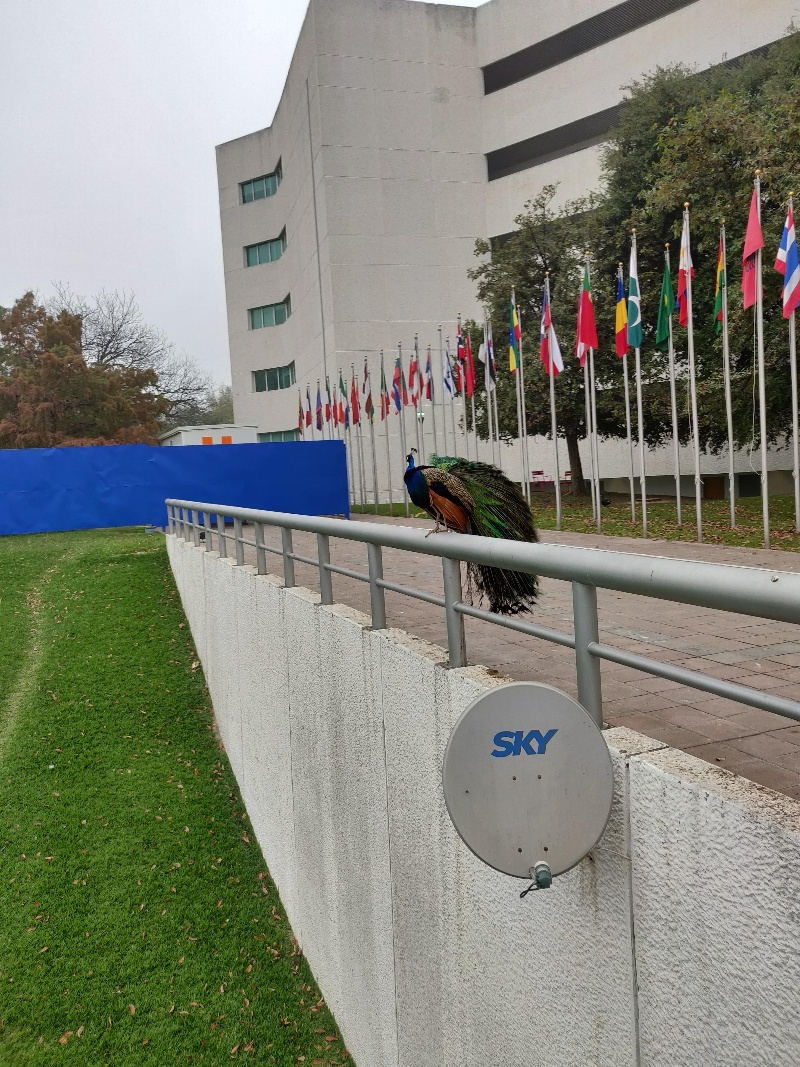pavoreal: (396, 442, 466, 533)
